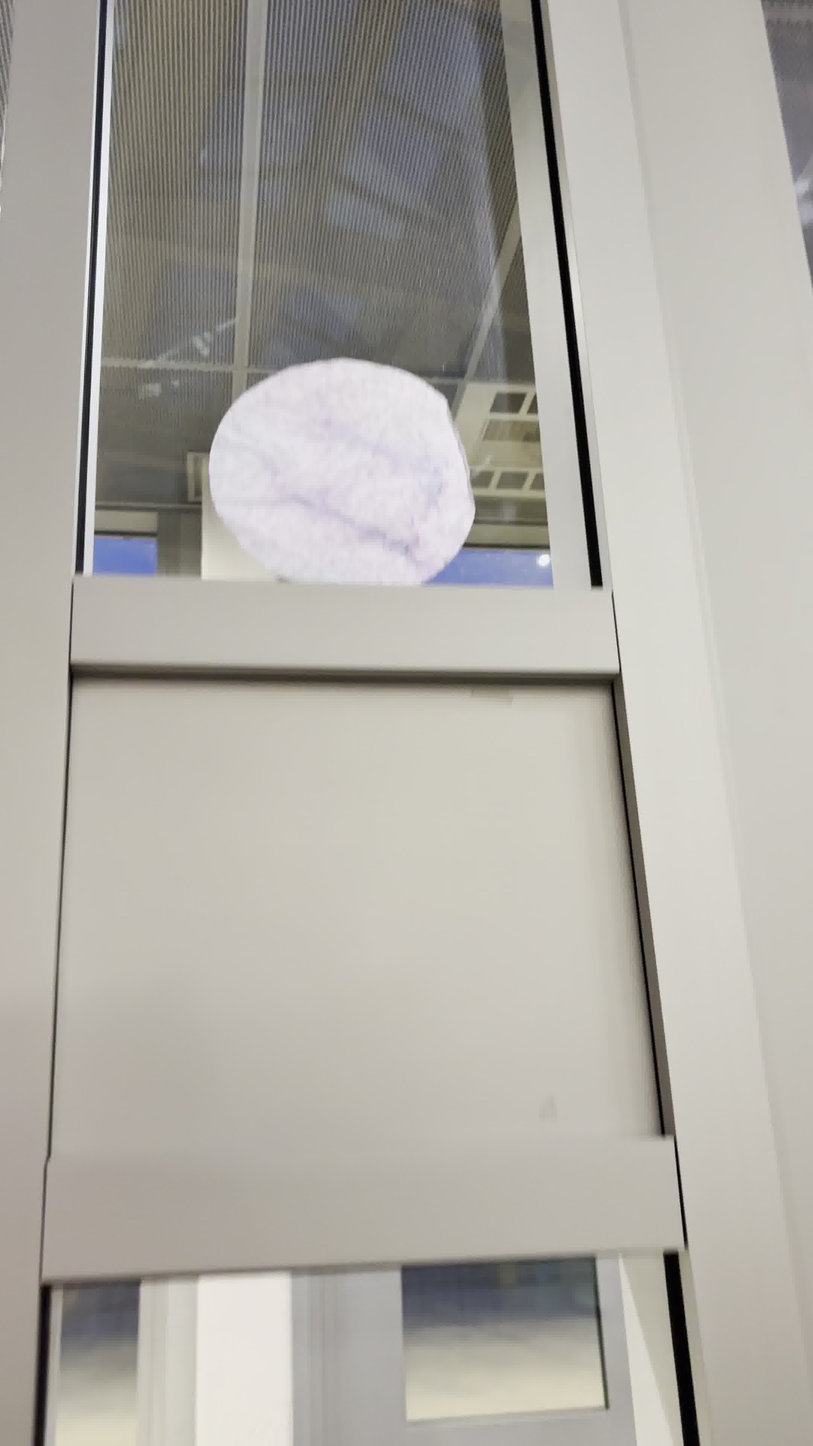Target: (203, 359, 477, 596)
